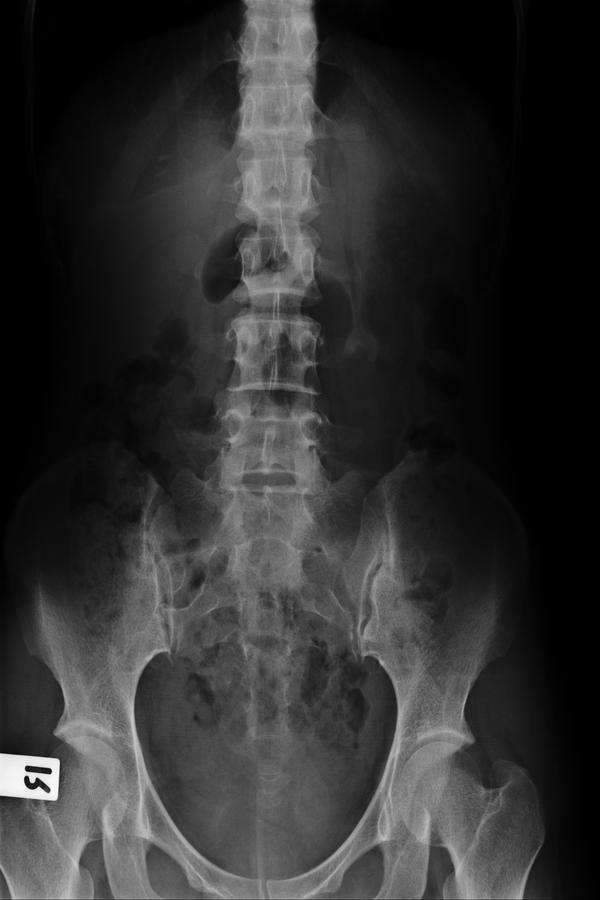lumbar scoliosis: (214, 7, 327, 616)
